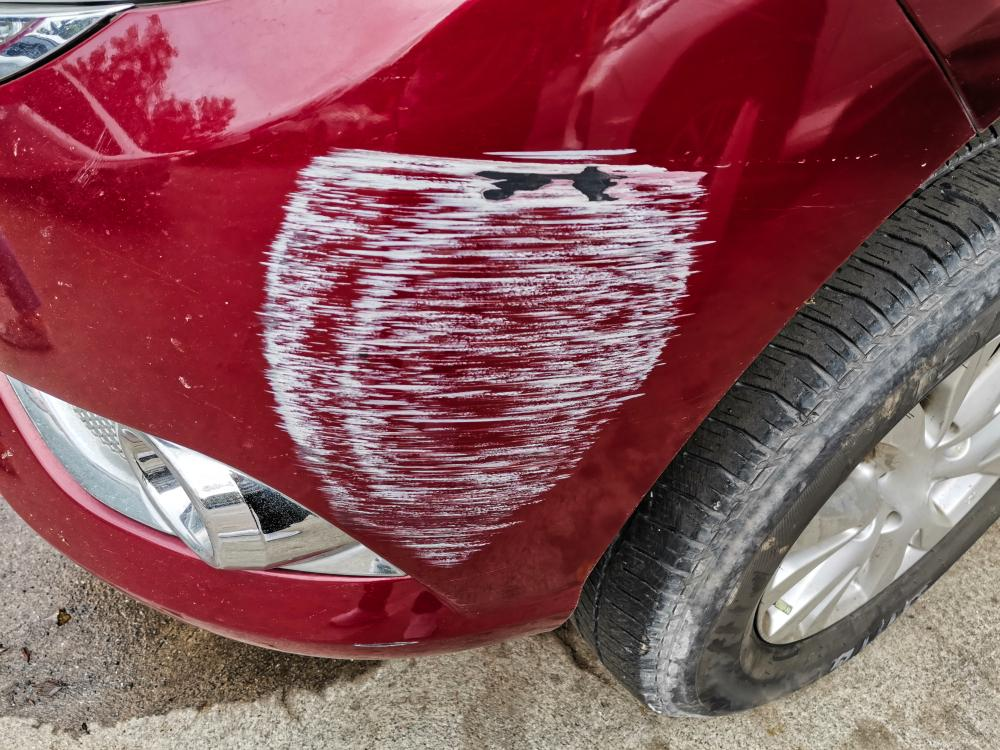scratch: (259, 142, 721, 570)
